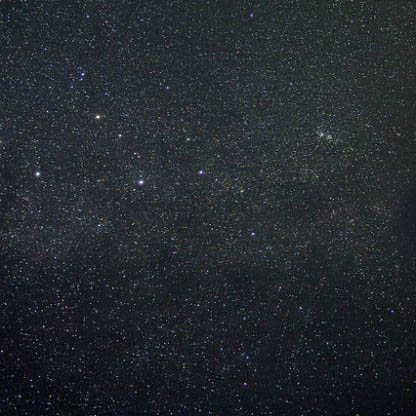Cassiopeia: (83, 104, 129, 145), (22, 162, 52, 187), (126, 170, 147, 197), (238, 225, 265, 244), (191, 162, 210, 184)
